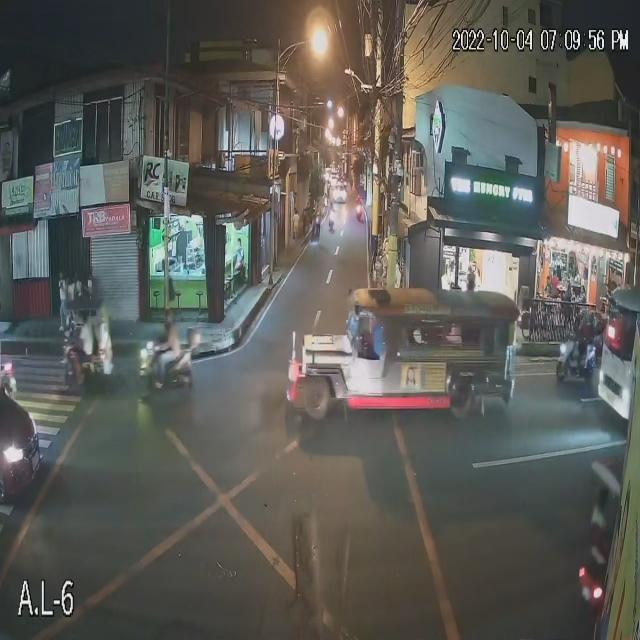helmet: (162, 311, 176, 330), (582, 311, 595, 323)
motorcycle: (135, 346, 194, 395), (554, 337, 602, 385), (327, 216, 336, 233), (355, 205, 363, 221)
rider: (153, 327, 182, 389), (573, 323, 593, 375), (328, 202, 335, 216), (356, 194, 363, 207)
